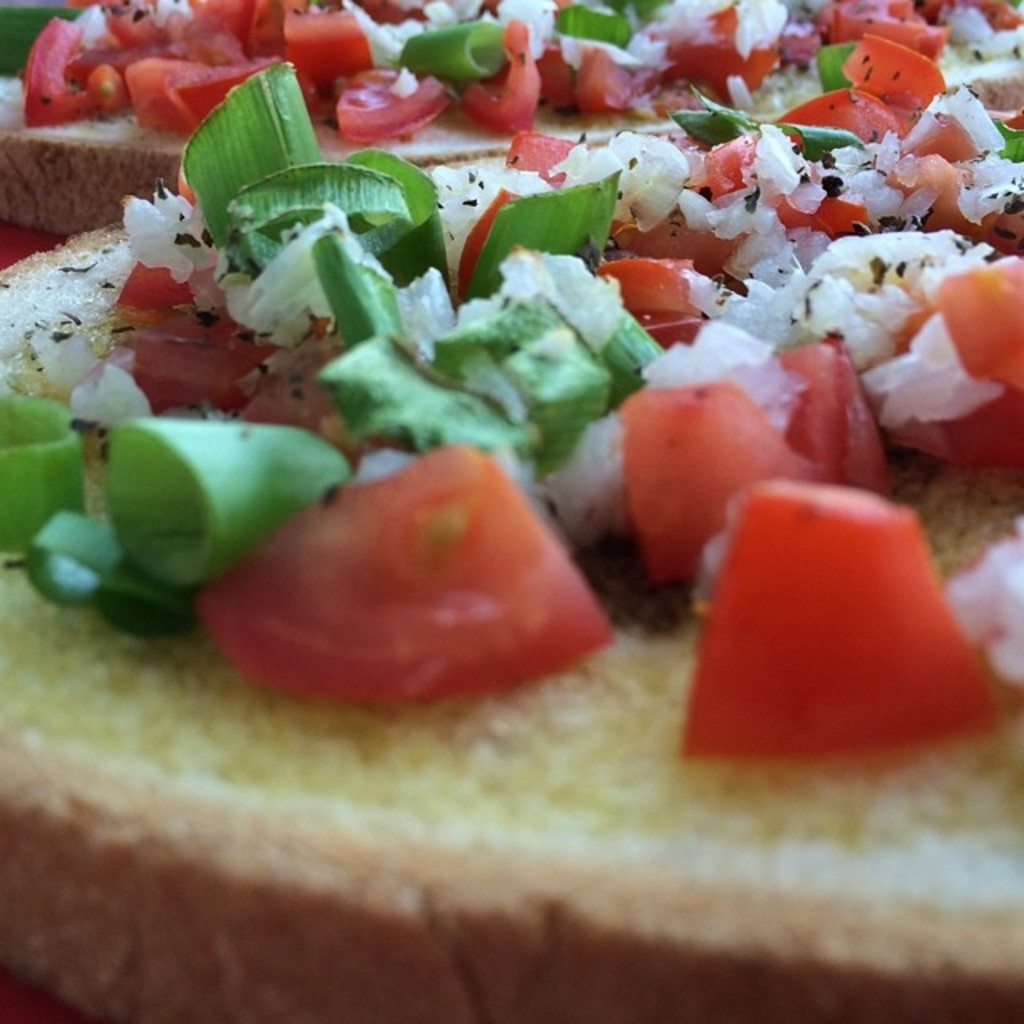Pizza: (4, 20, 1024, 935)
